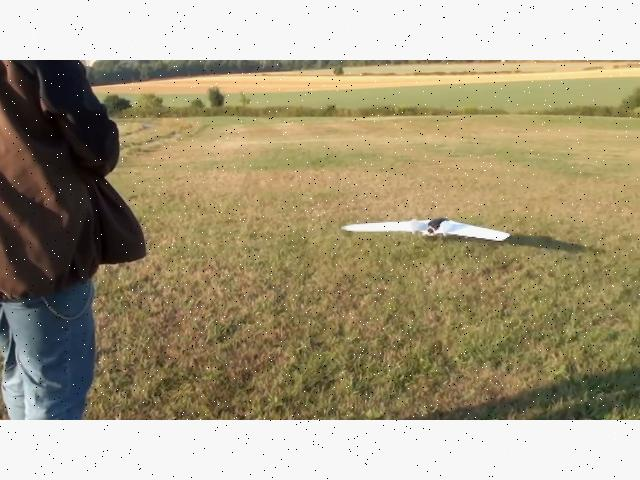Anti-Drone: (316, 198, 528, 278)
